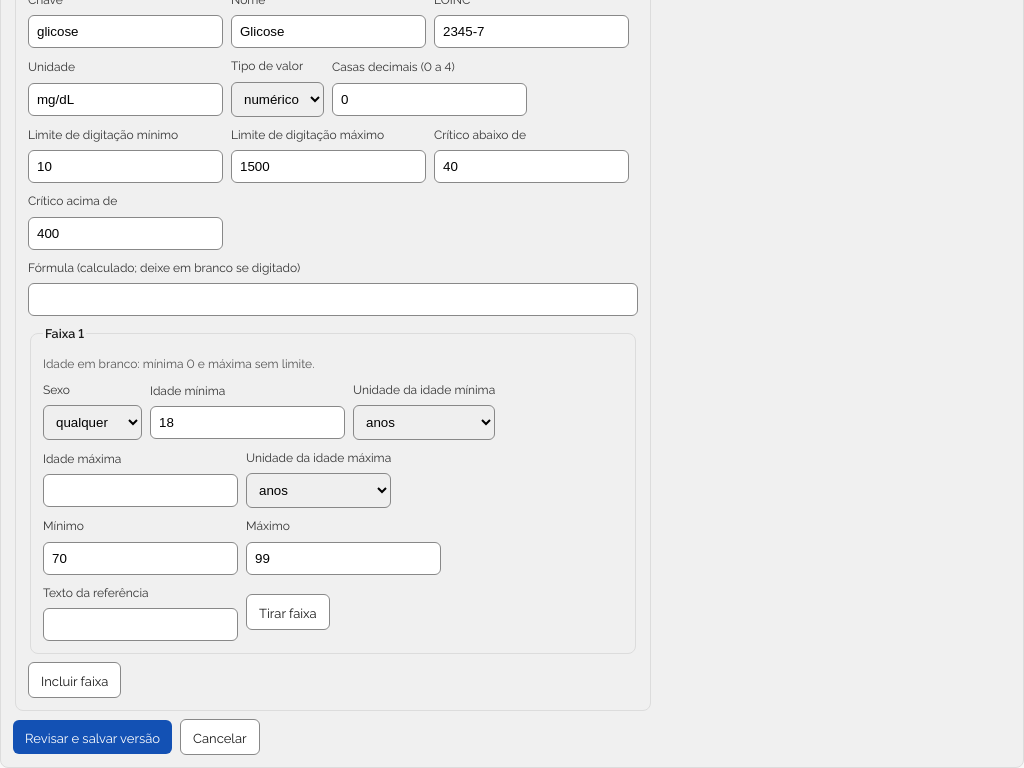
Test: VersionForm › 422 do api vira frase (ex.: código do aparelho repetido)
(page scrolled)
Click the button "Revisar e salvar versão".
click(93, 737)  # box [13,720,172,754]
(page scrolled)
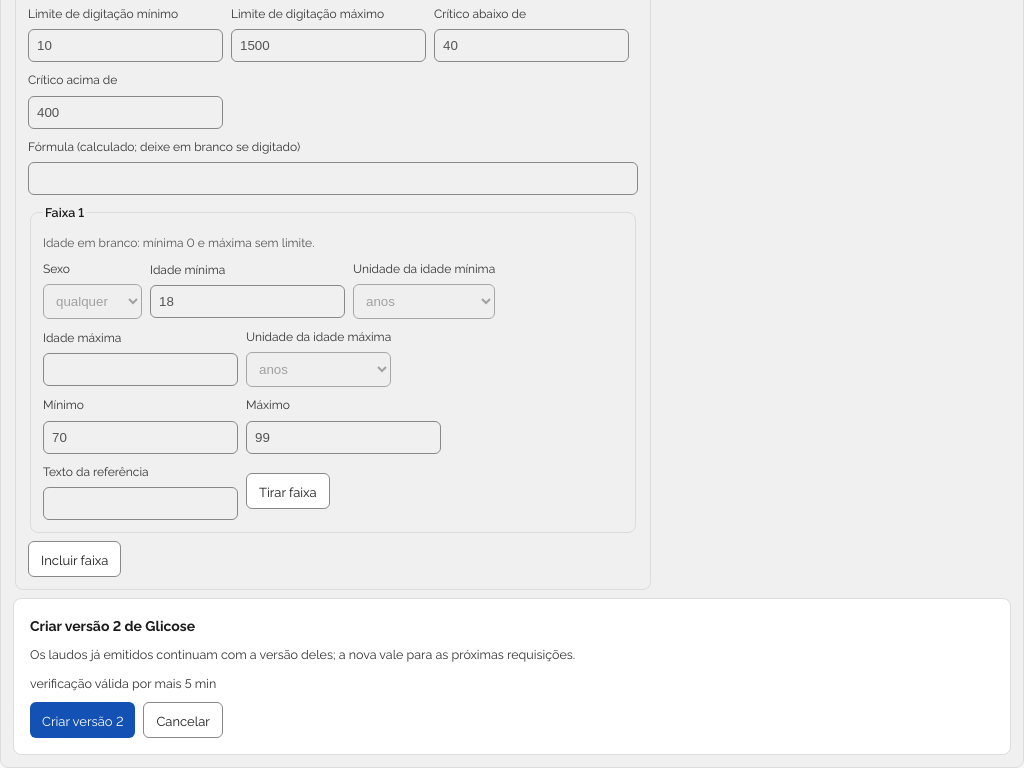
Click the button "Criar versão 2".
click(83, 720)  # box [30,702,136,738]
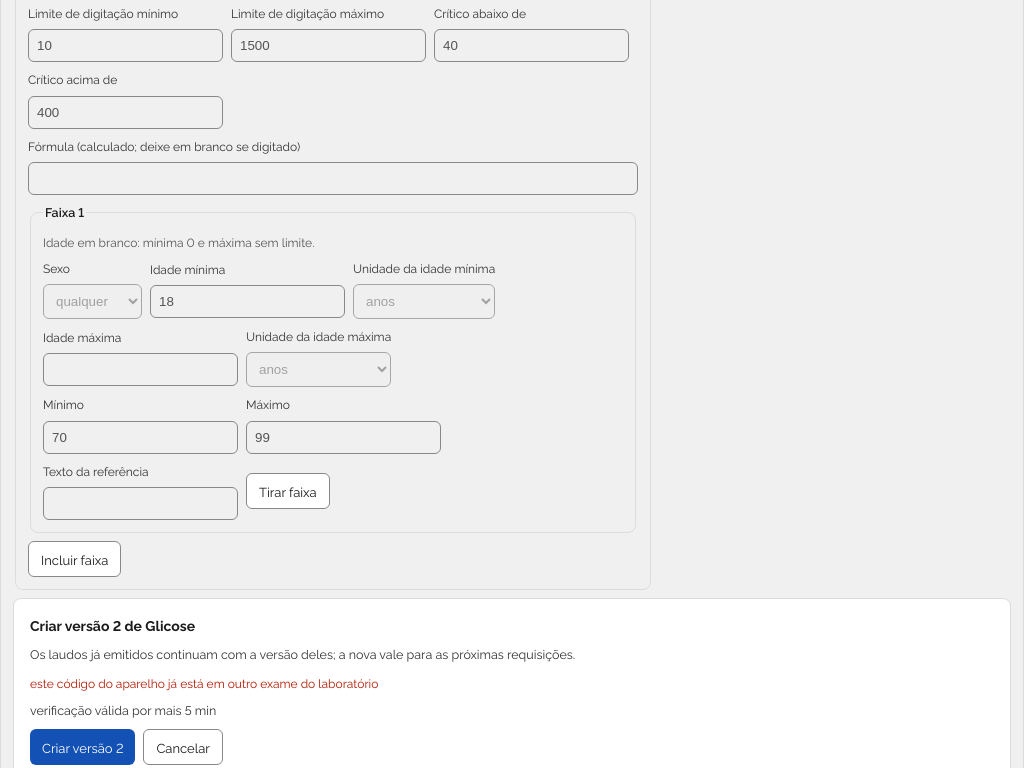
Result: the text "este código do aparelho já está em outro exame do laboratório" is shown at [30,674,378,690]
